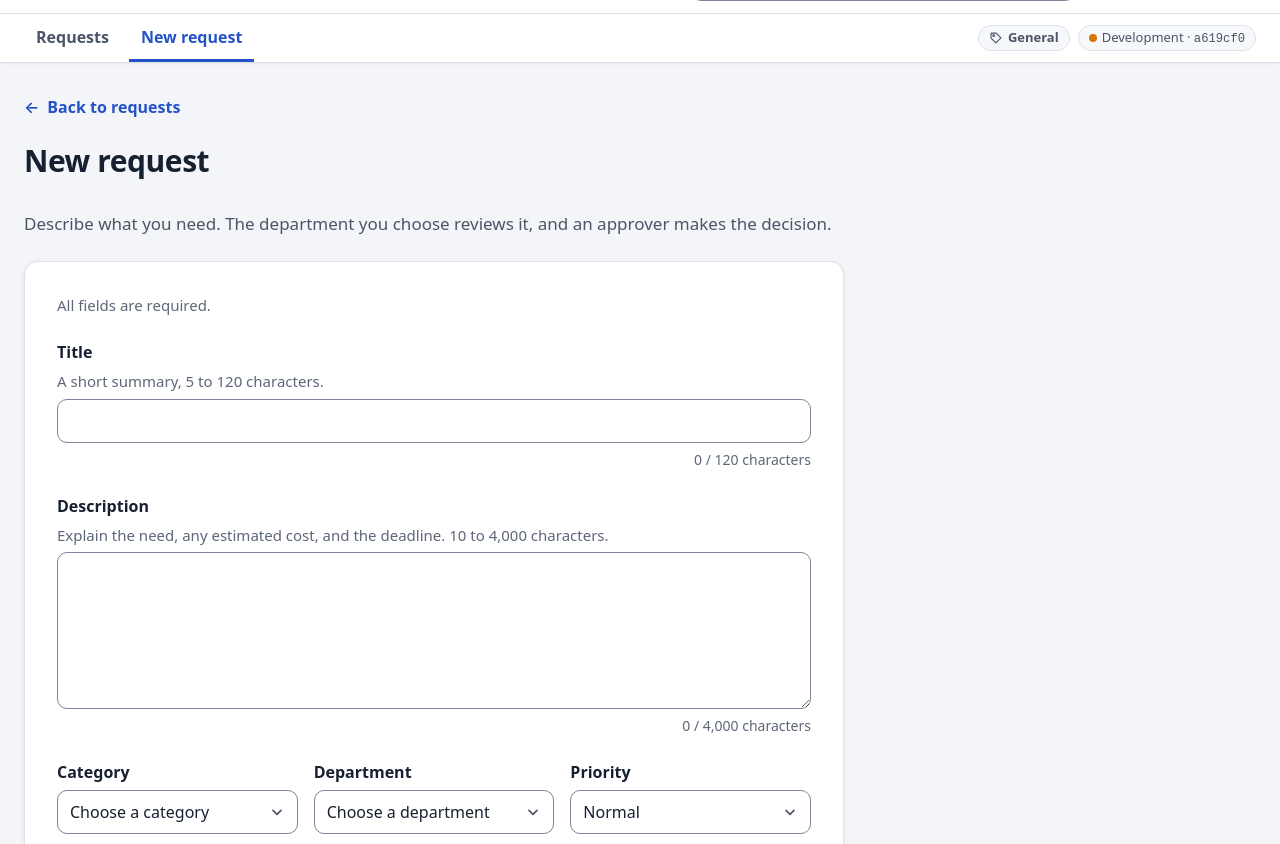
Test: NewRequestPage › validates inline before sending anything
The width and height of the screenshot is (1280, 844).
Type "abc" into the field labelled "Title" at (434, 421), box [57,398,811,443]
(page scrolled)
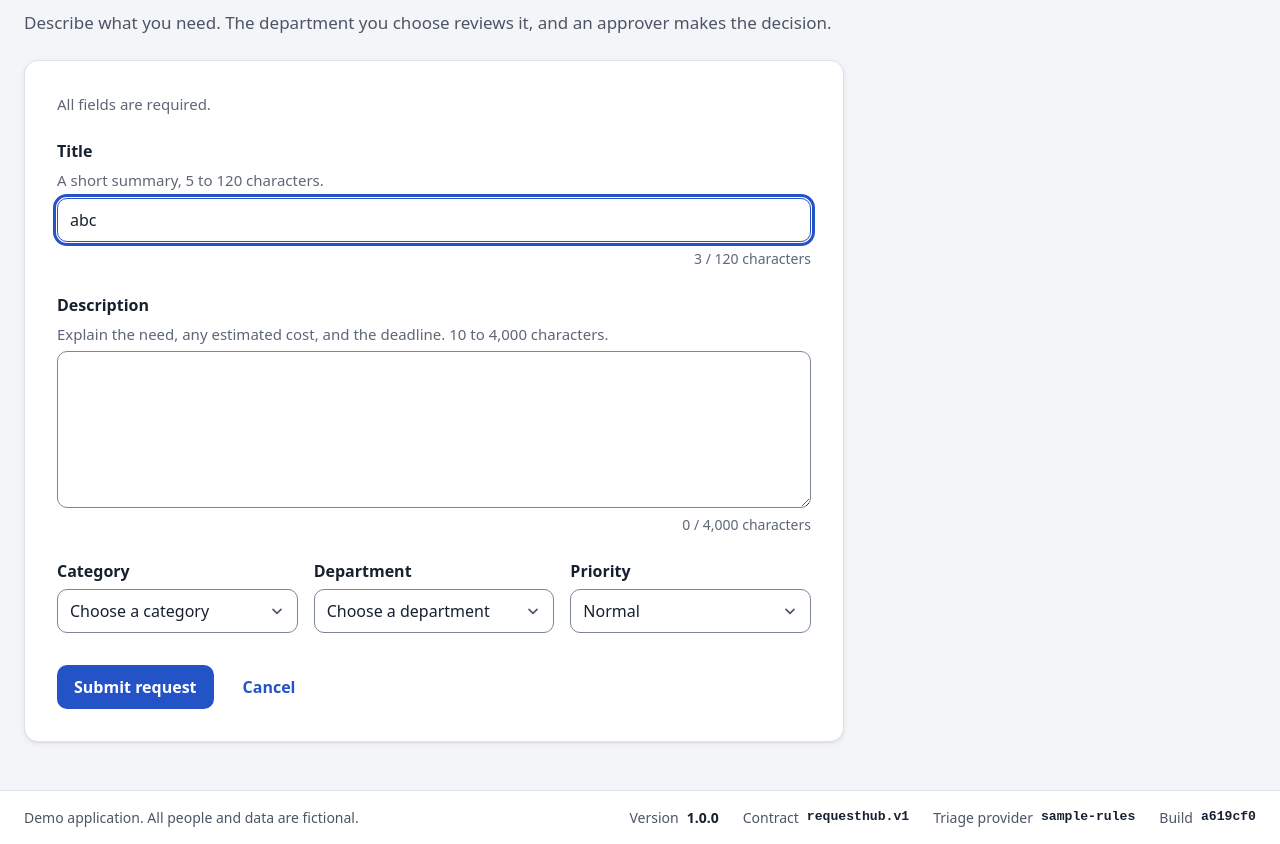
Click the button "Submit request" at (135, 687), box [57,665,214,709]
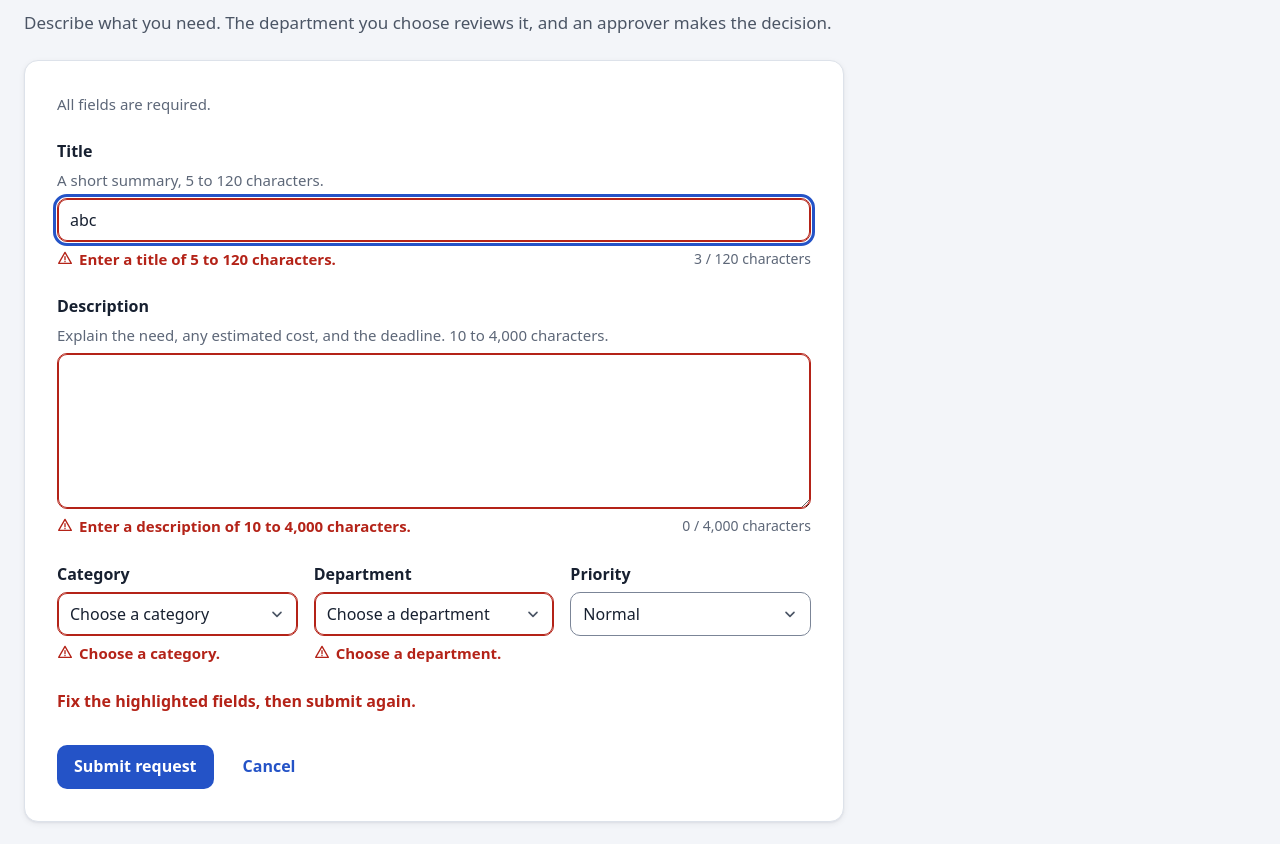
expect the text "3 / 120 characters" is shown: met, box [694,248,811,269]
expect the text "Enter a title of 5 to 120 characters." is shown: met, box [57,248,336,270]
expect the text "Choose a category." is shown: met, box [57,642,220,665]
